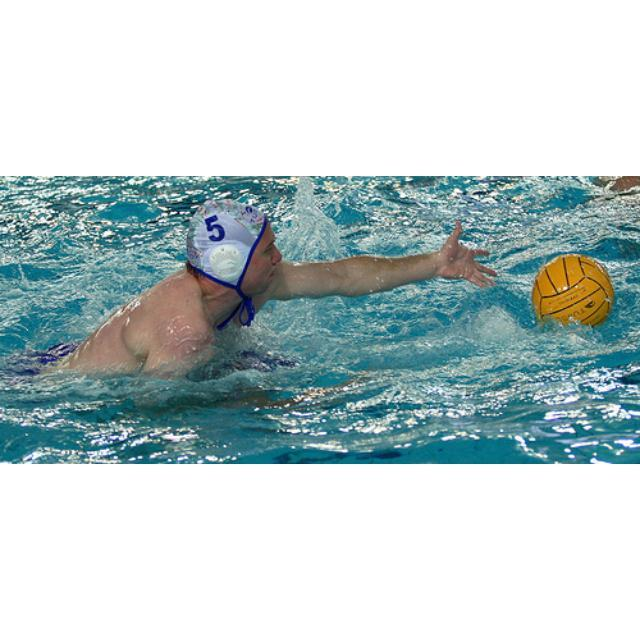human: (12, 197, 498, 381)
